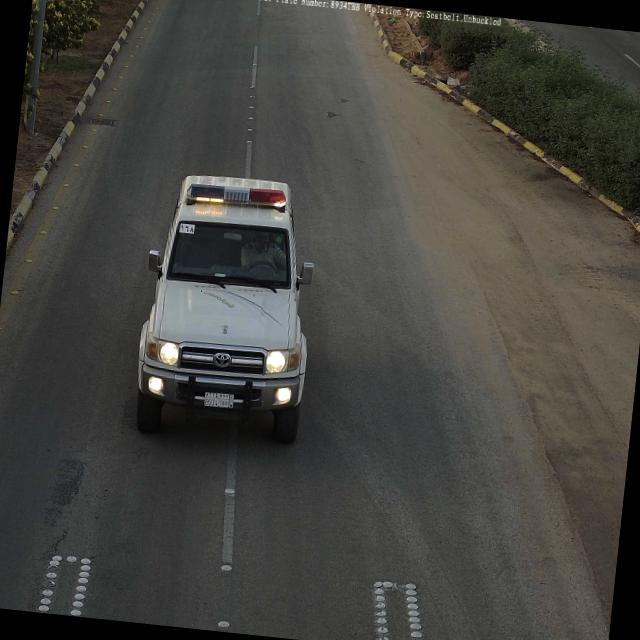person_without_seatbelt: (238, 230, 284, 274)
